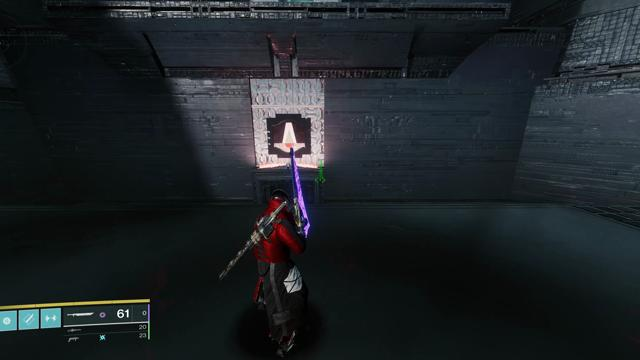enter: (273, 120, 306, 154)
